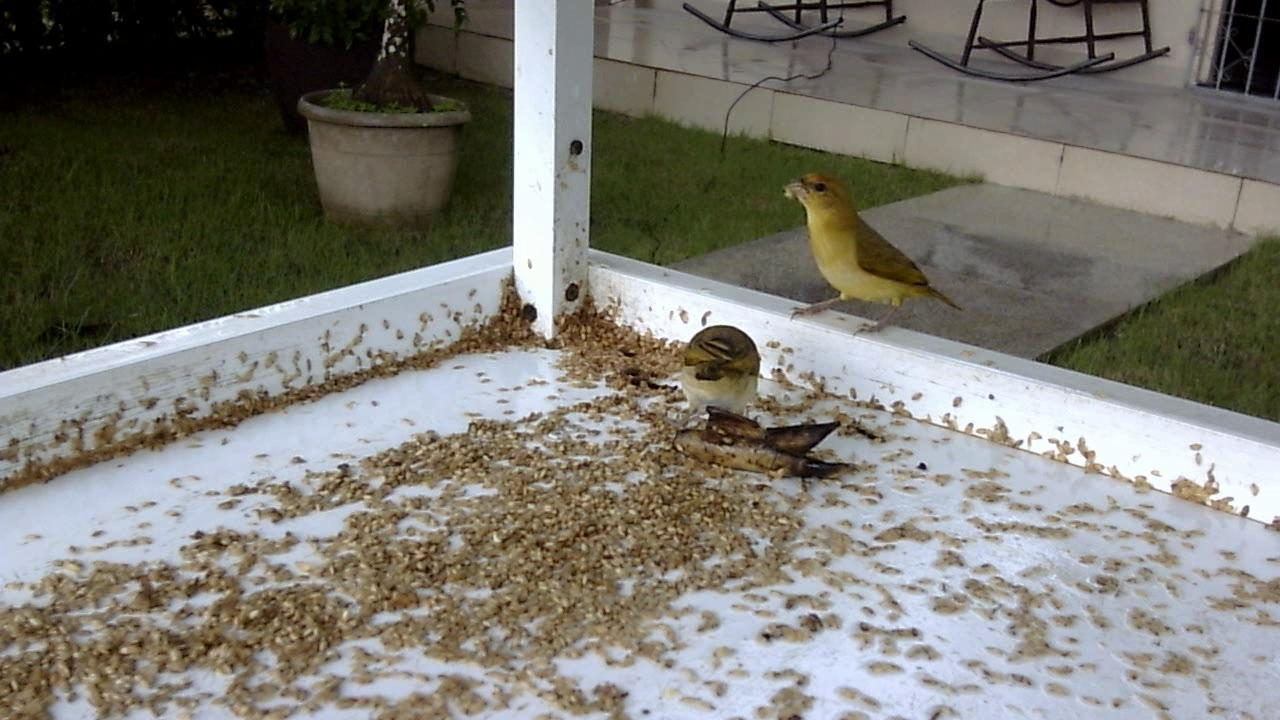canario_do_amazonas: (772, 167, 977, 349), (611, 319, 772, 437)
